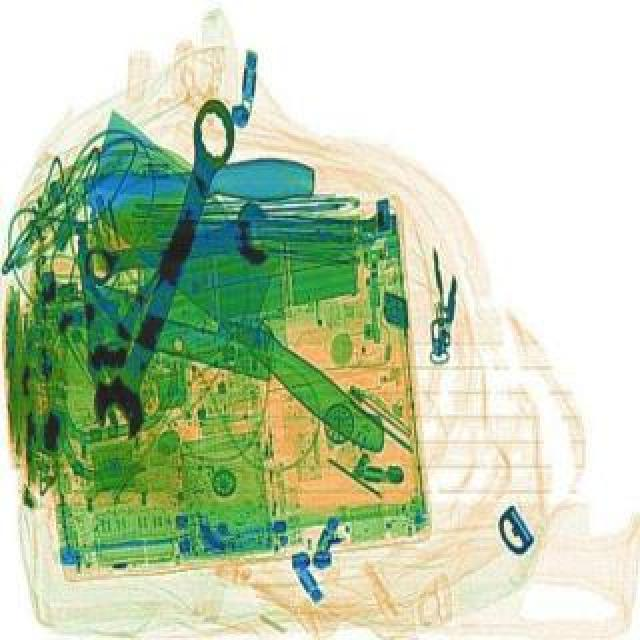knife: (38, 108, 442, 458), (78, 156, 314, 198)
scissors: (82, 92, 252, 438), (78, 200, 278, 294)
